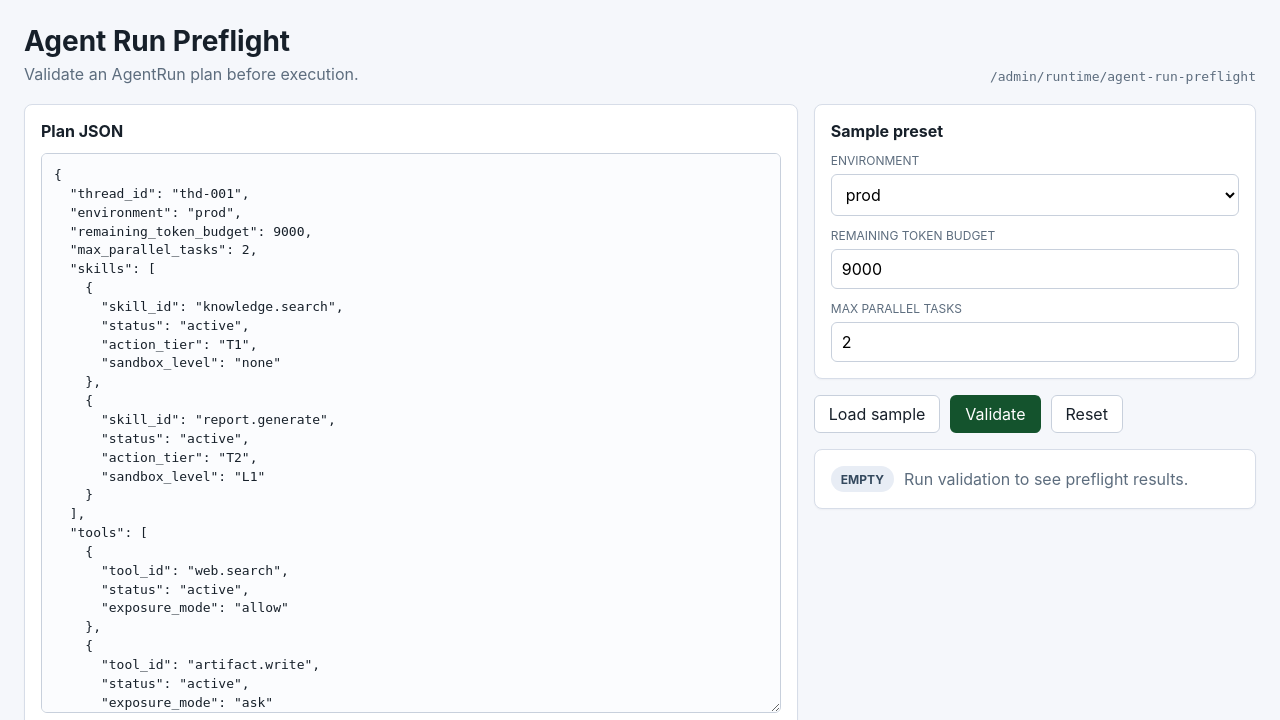
it: AgentRunPreflightPage › clears the previous result when request inputs change
The image size is (1280, 720).
Click the button "Validate" at (995, 414), box [950,395,1040,433]
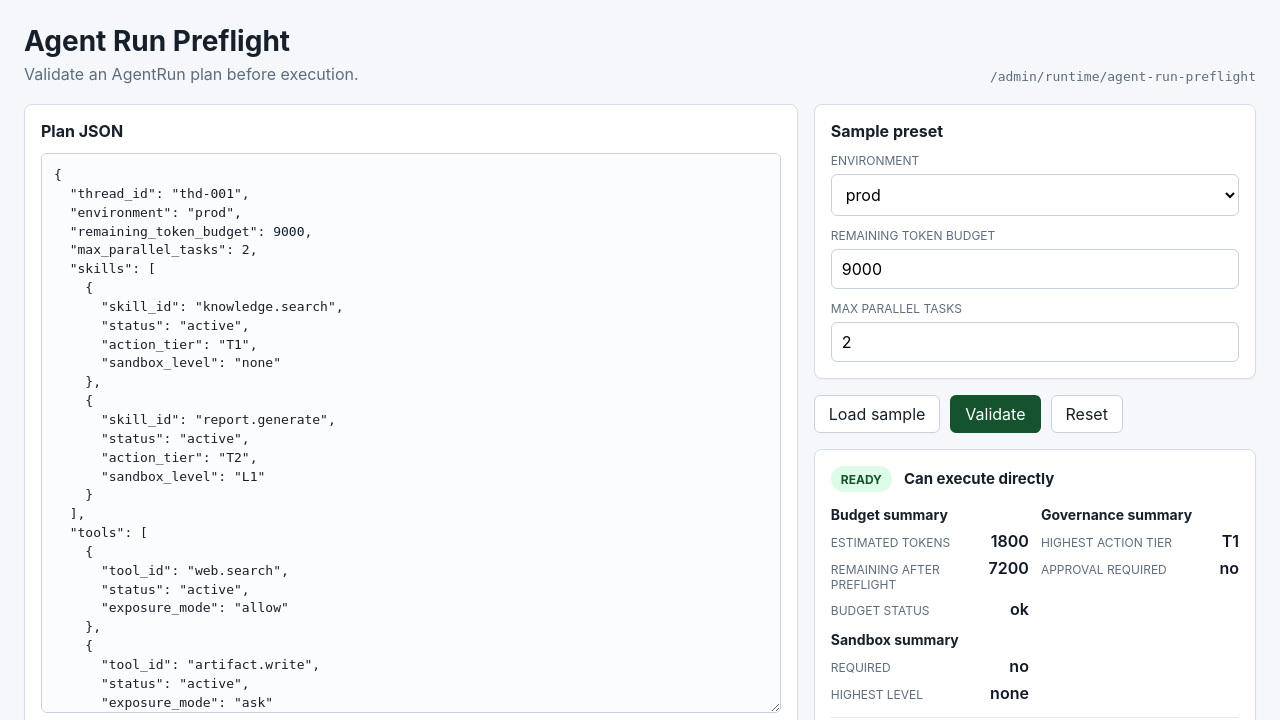
Expected: the text "ready" is shown, [831,466,892,492]
Select "staging" in the dropdown labelled "environment" at (1035, 195), box [831,174,1239,216]
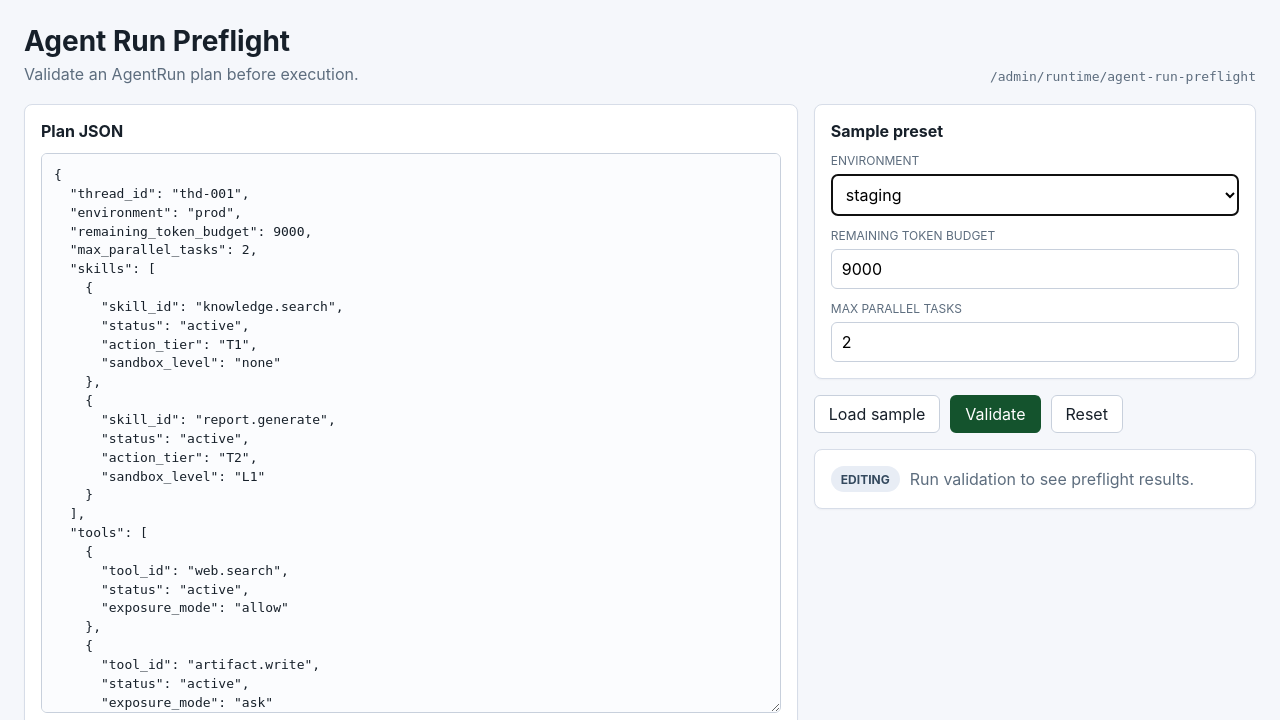
Expected: the text "ready" is gone
Expected: the text "Estimated tokens" is gone
Expected: the text "editing" is shown, [831,466,900,492]
